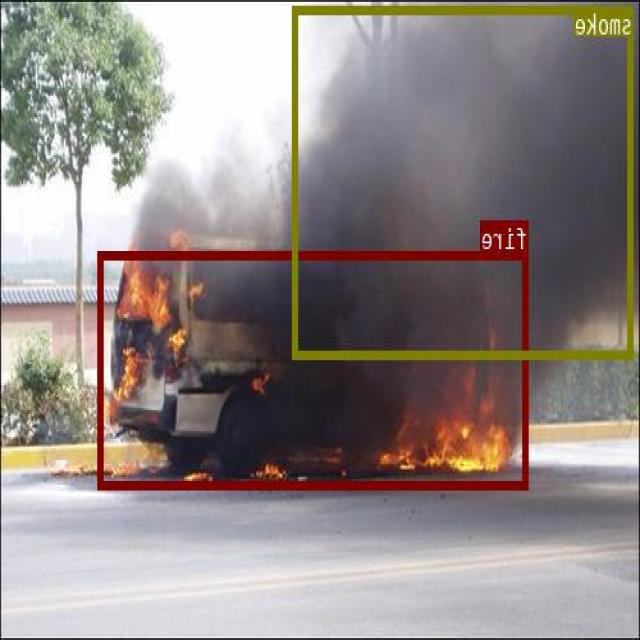fire: (99, 249, 530, 487)
smoke: (294, 6, 634, 357)
